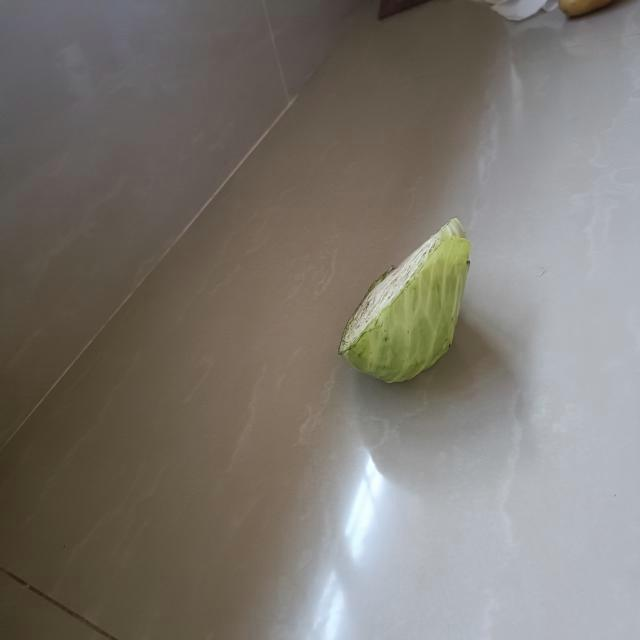cabbage: (342, 213, 466, 385)
